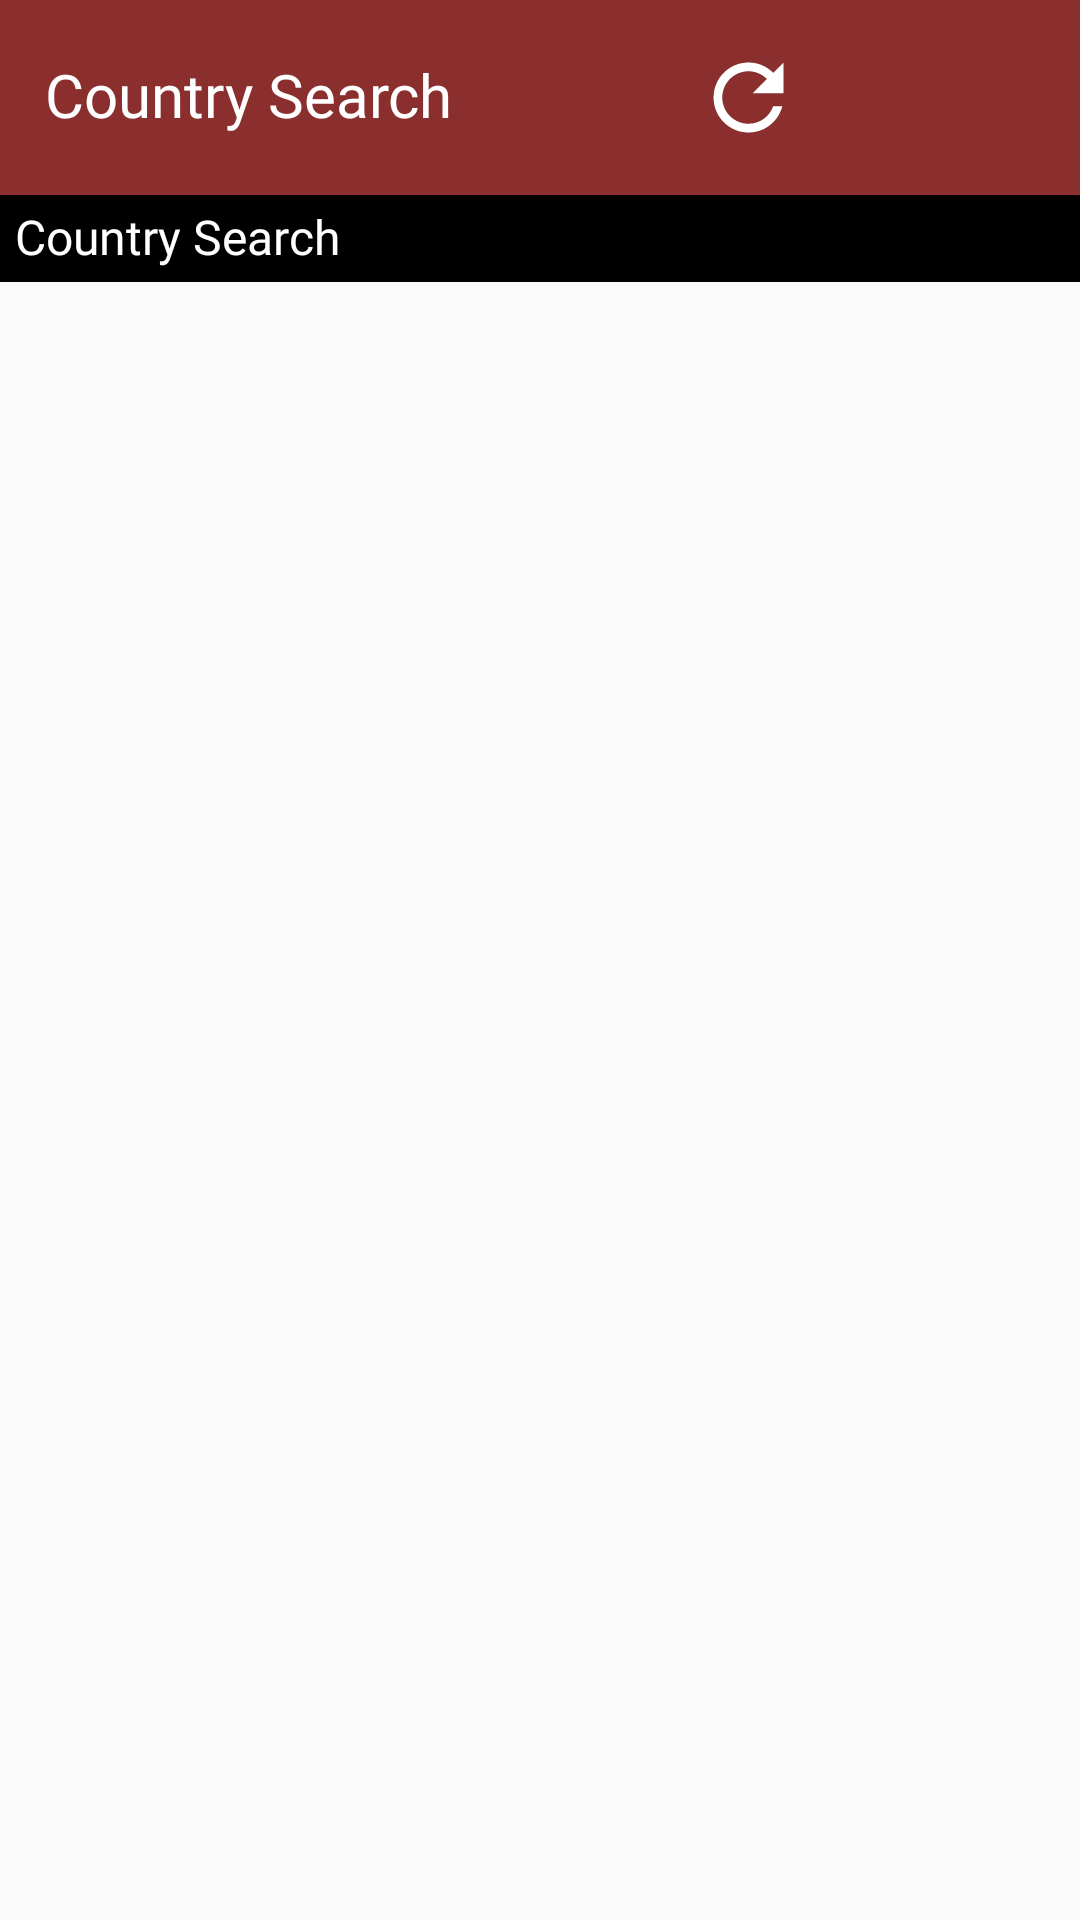

Icons on this 1080 x 1920 Android screen, each with the point to tap as [x,y]:
Reload Image: [748,97]
